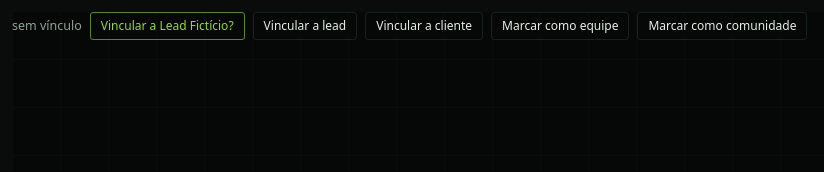
Test: o vínculo no cabeçalho da caixa › erro da API aparece ao lado (409 ao ligar a outro)
This screenshot has width=824, height=172.
Click the button with test id "whats-vinculo-sugestao" at coordinates (167, 26), box 90,12 -> 245,40
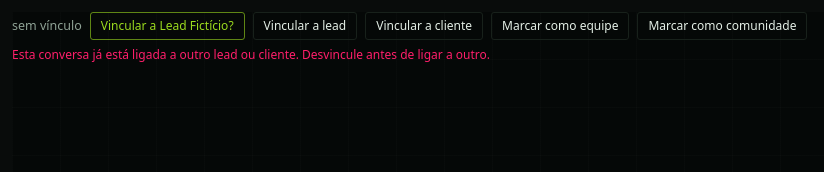
Expected: the message shows "Desvincule antes", 12,46 -> 490,63
